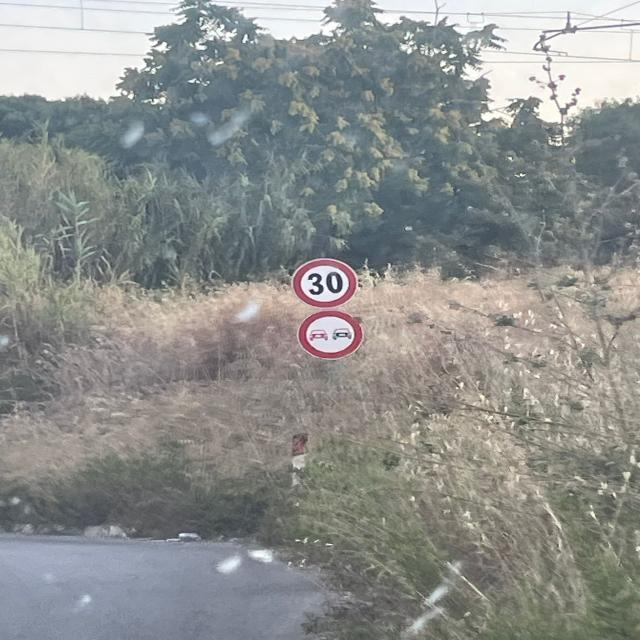forb_overtake: (296, 309, 365, 360)
forb_speed_over_30: (291, 257, 359, 309)
